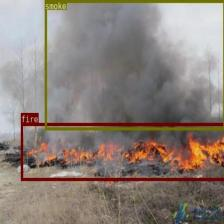fire: (20, 122, 224, 180)
smoke: (44, 0, 224, 130)
